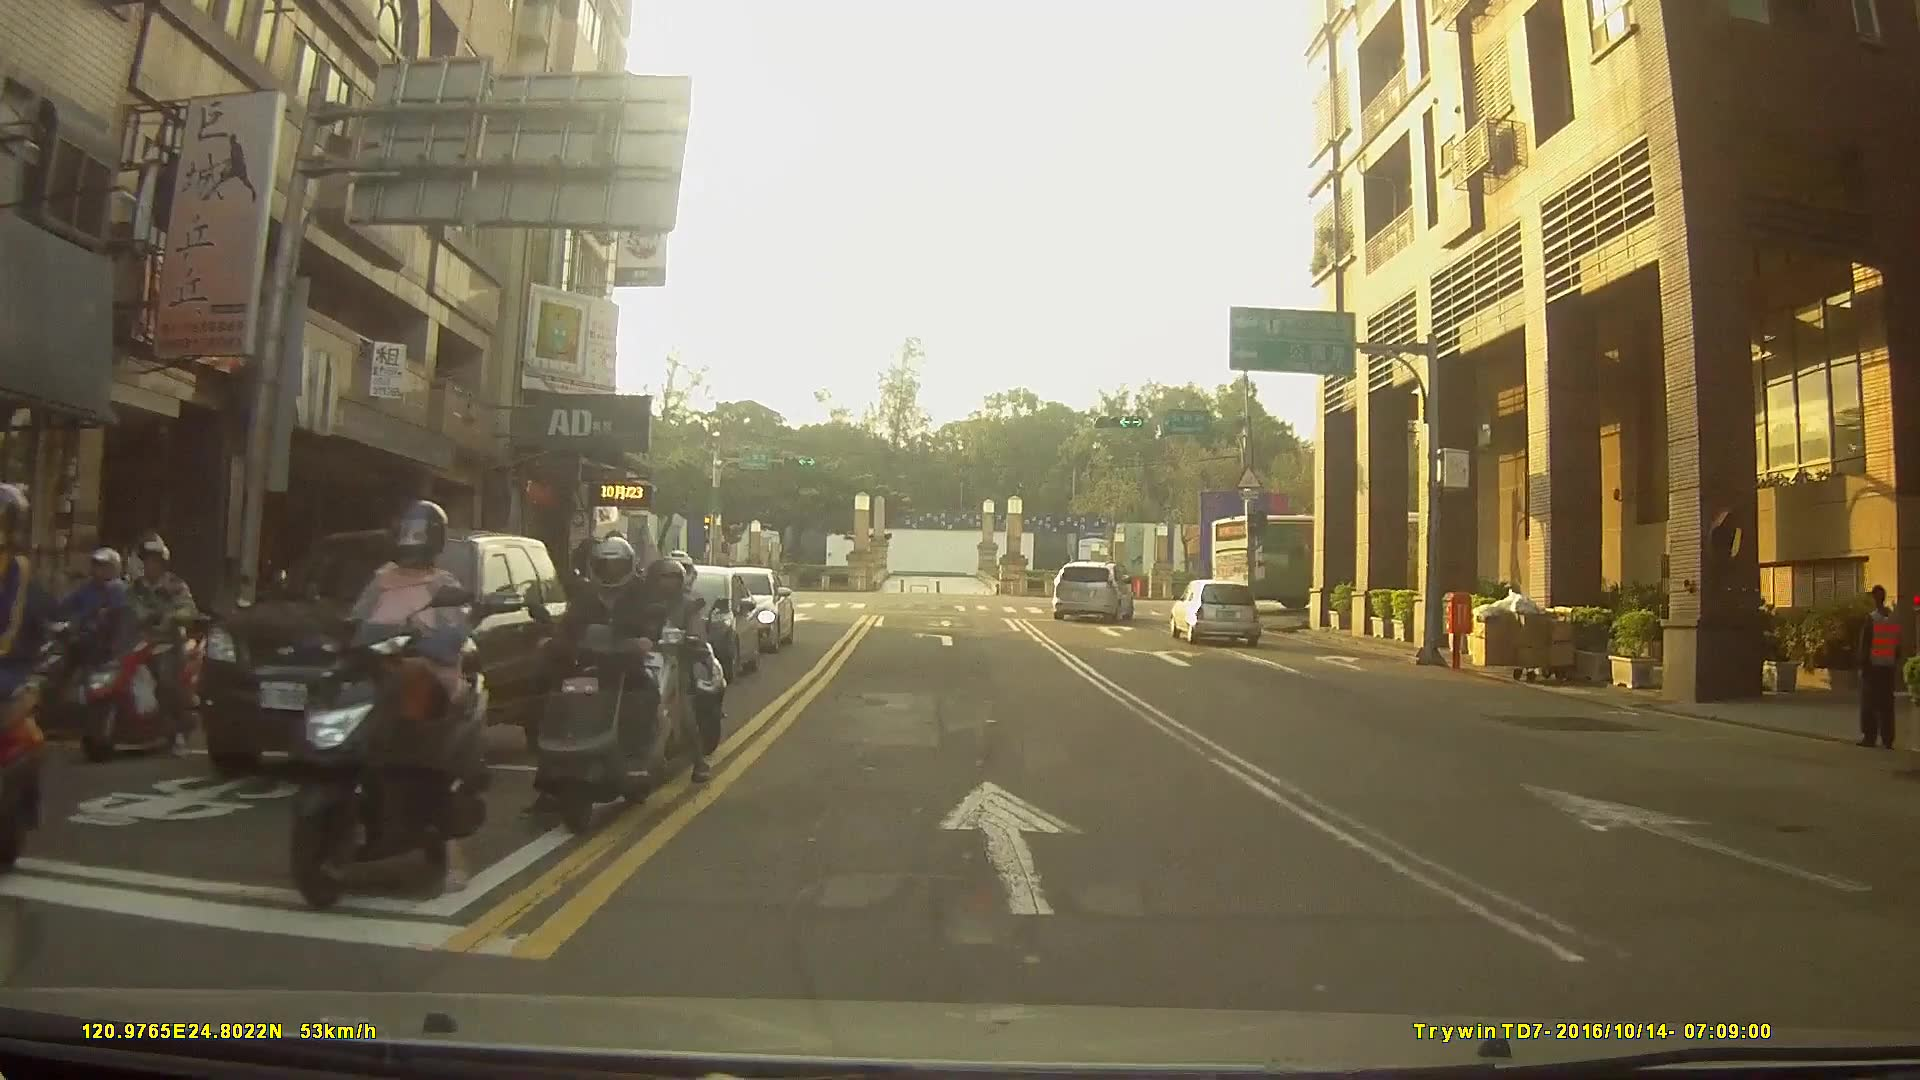pedestrian: (1857, 575, 1904, 760)
rider: (296, 505, 499, 909), (529, 537, 674, 839), (66, 540, 212, 763)
vehicle: (188, 529, 569, 782), (1210, 512, 1476, 606), (1167, 577, 1263, 647), (1051, 558, 1132, 620)
